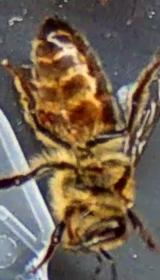varroa_mite: (26, 100, 56, 134)
